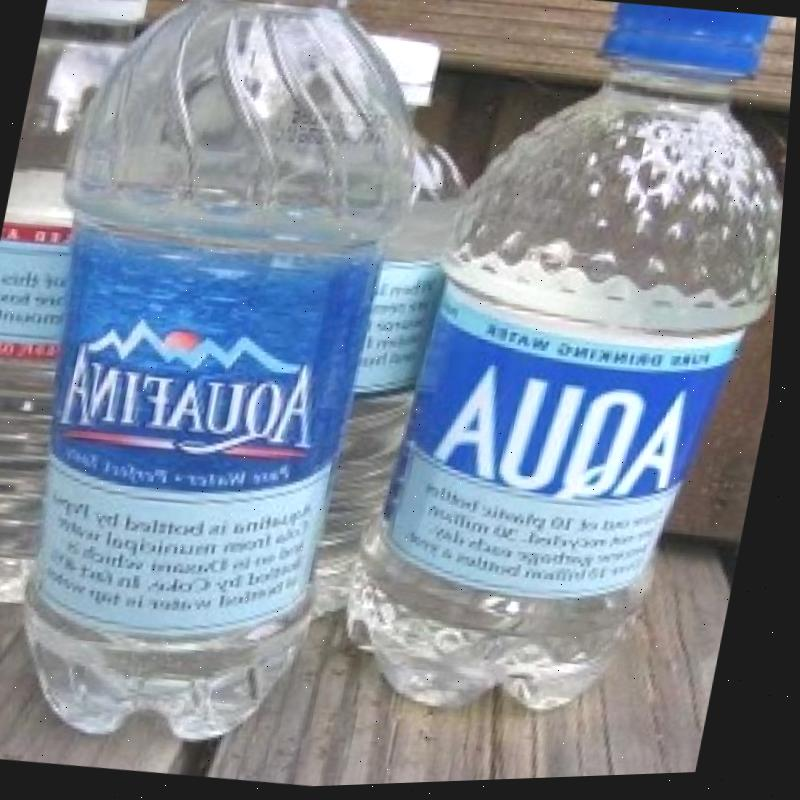botella: (331, 0, 800, 746), (3, 0, 437, 766), (257, 35, 485, 637), (0, 0, 149, 611)
